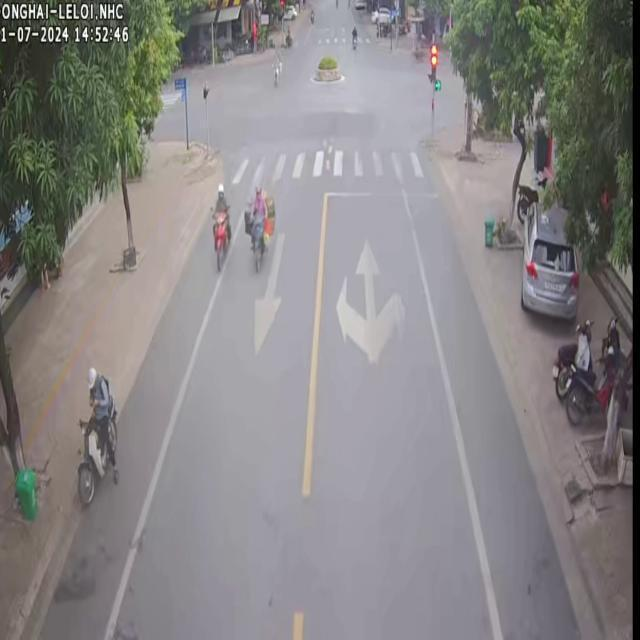car: (519, 200, 577, 318)
motobike: (76, 365, 117, 502), (564, 345, 613, 422), (550, 318, 590, 398), (242, 185, 273, 268), (210, 182, 229, 268)
red_light: (430, 43, 437, 79)
stop_line: (324, 188, 443, 194)
